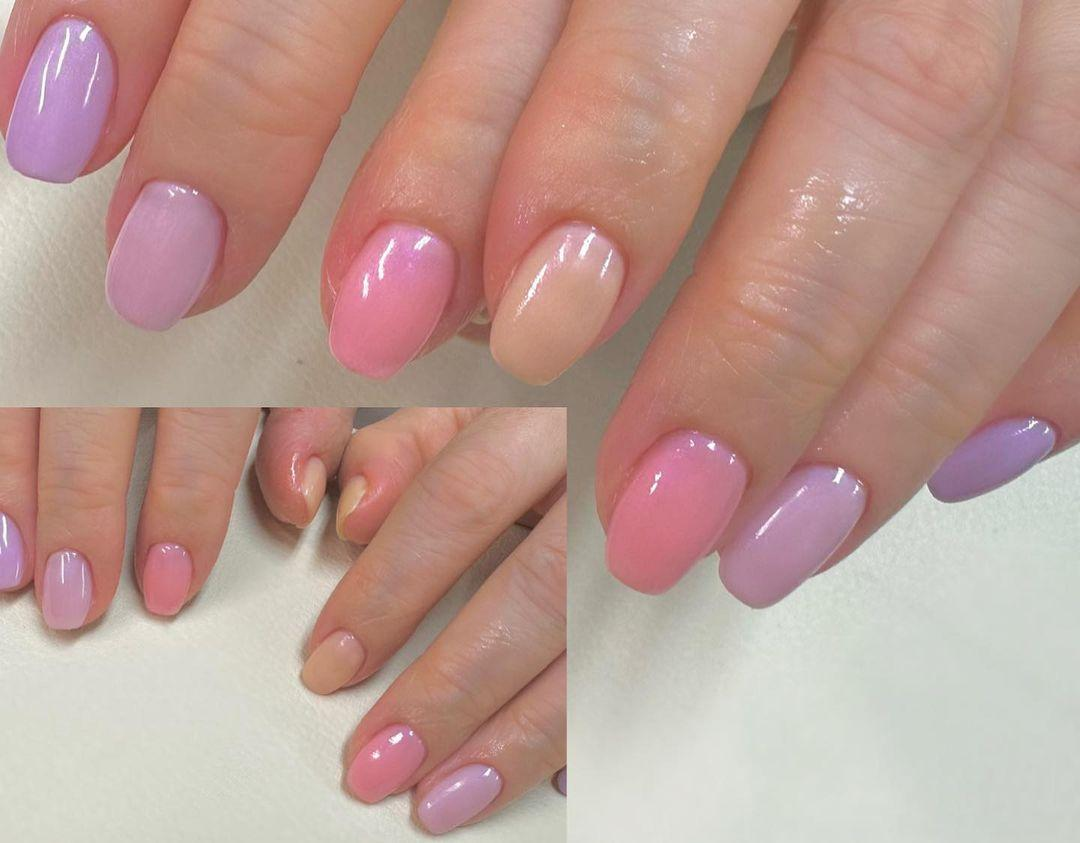nail: (603, 426, 749, 594), (487, 217, 627, 386), (717, 460, 868, 609), (327, 218, 458, 379), (4, 11, 118, 183), (103, 177, 227, 331), (926, 413, 1058, 503), (343, 721, 426, 803), (415, 761, 503, 834), (299, 627, 366, 695), (40, 547, 93, 630), (139, 540, 194, 616), (0, 510, 31, 592), (336, 475, 367, 542), (299, 455, 327, 521)
